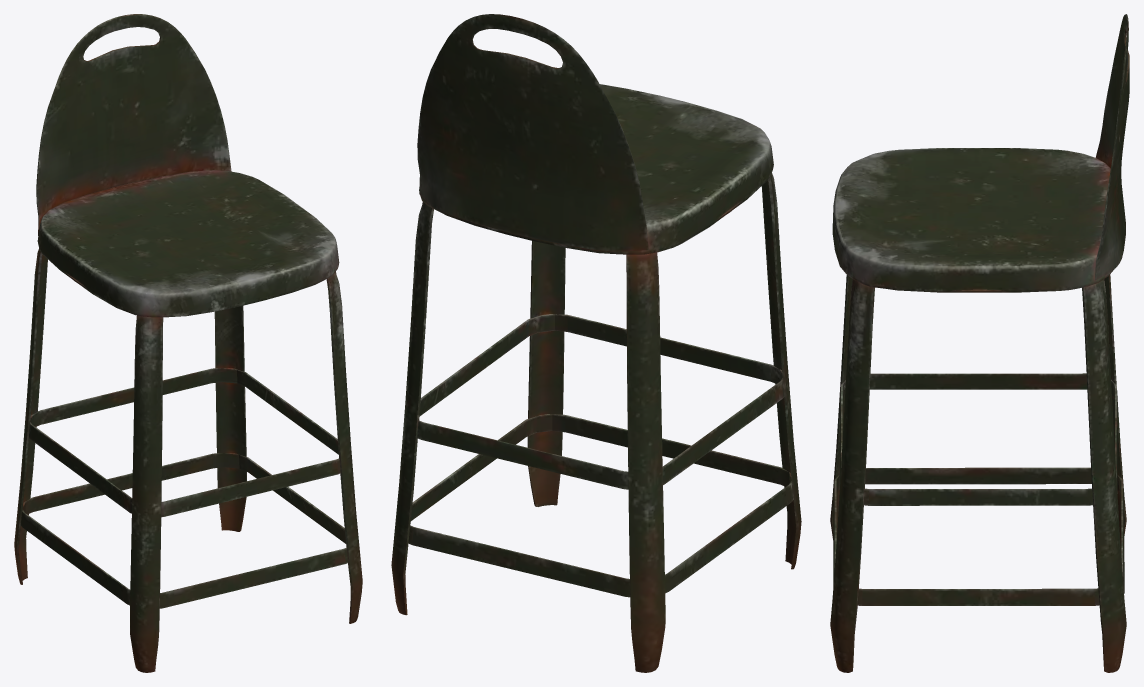
File: metal_stool_03.glb
3 views of the same model, side by side, from view 1: azimuth 30°, elevation 25°; view 2: azimuth 150°, elevation 25°; view 3: azimuth 270°, elevation 25° (orthographic). The views are drawn at different scales.
Parts seen in each view (by area): view 1: metal_stool_03; view 2: metal_stool_03; view 3: metal_stool_03.
Part boxes in pixels (box(x1,y1,x2,y2)): metal_stool_03: box(14, 14, 362, 672); metal_stool_03: box(391, 14, 801, 672); metal_stool_03: box(830, 14, 1129, 672).
Size of the model in its own units: 0.4606 by 1.02 by 0.47.
Materials: 1 (1 with a texture image).
